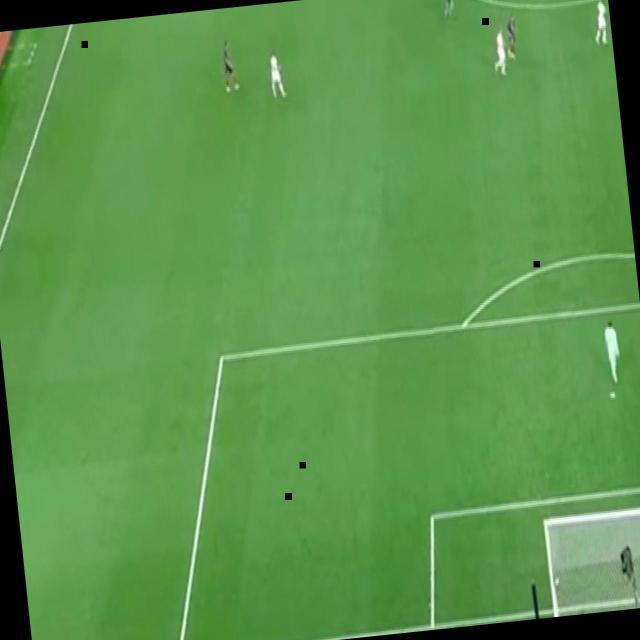player-white: (602, 316, 624, 384), (266, 44, 290, 102), (488, 23, 512, 79), (220, 37, 242, 95), (590, 0, 612, 48), (503, 12, 520, 63), (441, 0, 458, 18)
